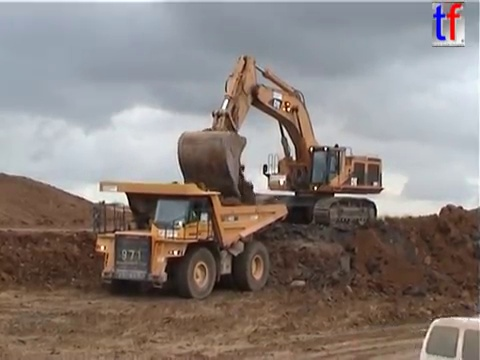excavator: (174, 53, 386, 234)
truck: (91, 178, 291, 302), (167, 180, 262, 223)
